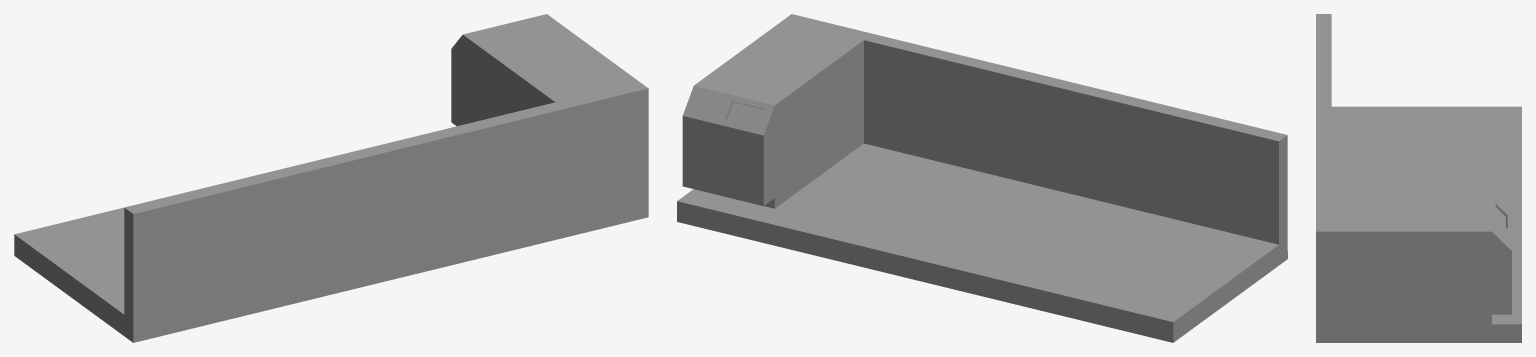
The model's file is Frame_Lathe.obj.
3 views of the same model, side by side, from view 1: azimuth 30°, elevation 25°; view 2: azimuth 150°, elevation 25°; view 3: azimuth 270°, elevation 25° (orthographic). The views are drawn at different scales.
Parts seen in each view (by area): view 1: Frame; view 2: Frame; view 3: Frame.
Boxes of the visible parts, box(x1,y1,x2,y2) form: Frame: box(14, 14, 648, 342); Frame: box(677, 14, 1287, 342); Frame: box(1316, 14, 1521, 342).
Bounding box in the file's own units: 4 × 0.9559 × 1.6.
1 material, 1 textured.
